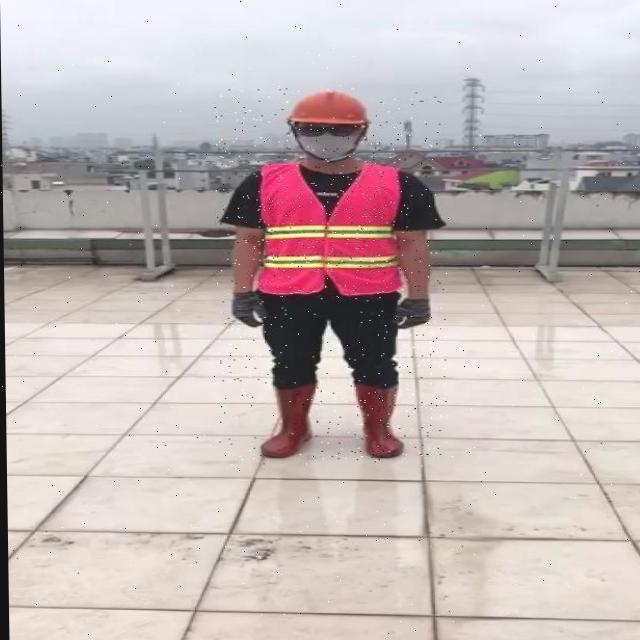Gloves: (232, 289, 265, 327), (391, 297, 431, 328)
Helmet: (287, 88, 370, 162)
Safety-Boot: (259, 381, 317, 457), (354, 380, 404, 457)
Safety-Vest: (256, 160, 405, 296)
